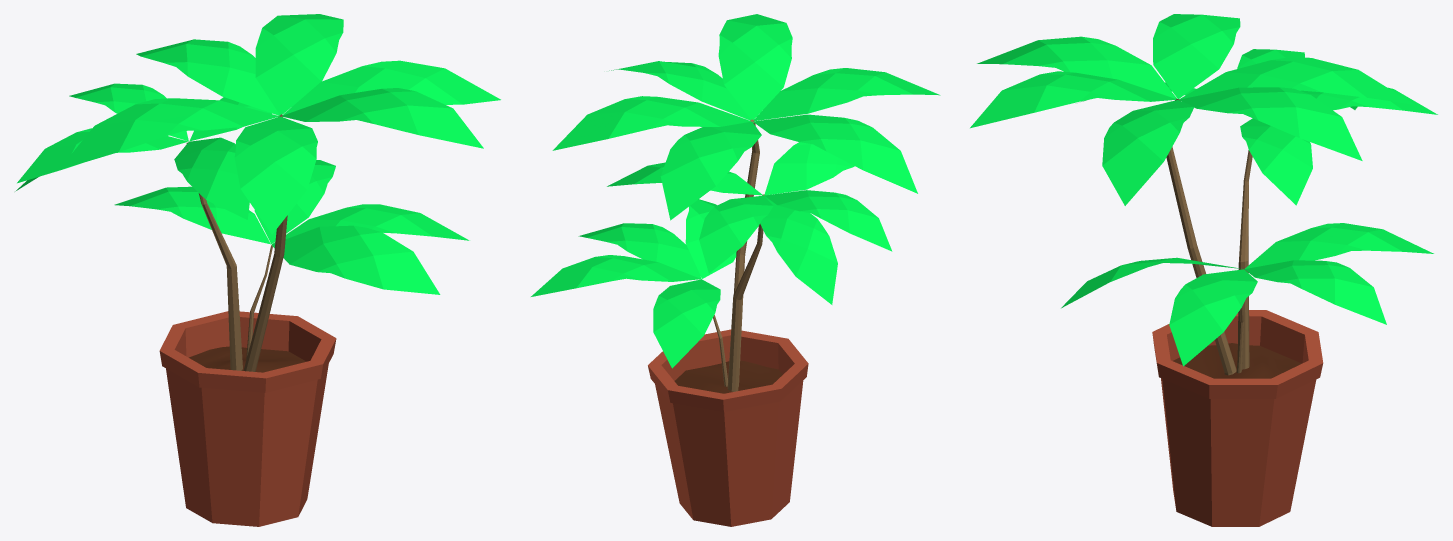
Rendered from FindPassword_interactable_pot_L2_v5.gltf.
3 views of the same model, side by side, from view 1: azimuth 30°, elevation 25°; view 2: azimuth 150°, elevation 25°; view 3: azimuth 270°, elevation 25° (orthographic). The views are drawn at different scales.
Visible parts, largest first — view 1: pot; view 2: pot; view 3: pot.
Boxes of the visible parts, x1,y1,x2,y2 form: pot: (15,14,500,526); pot: (531,14,940,526); pot: (970,14,1437,526).
Bounding box in the file's own units: 0.6441 × 0.6865 × 0.6463.
